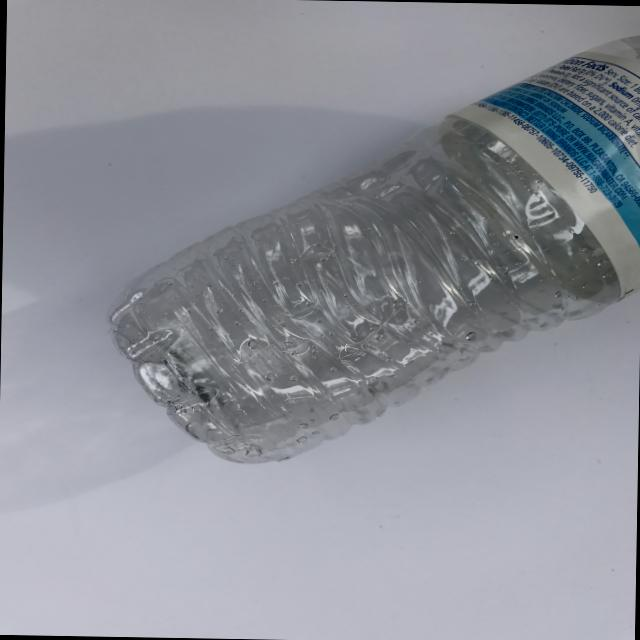Plastic: (65, 22, 640, 501)
